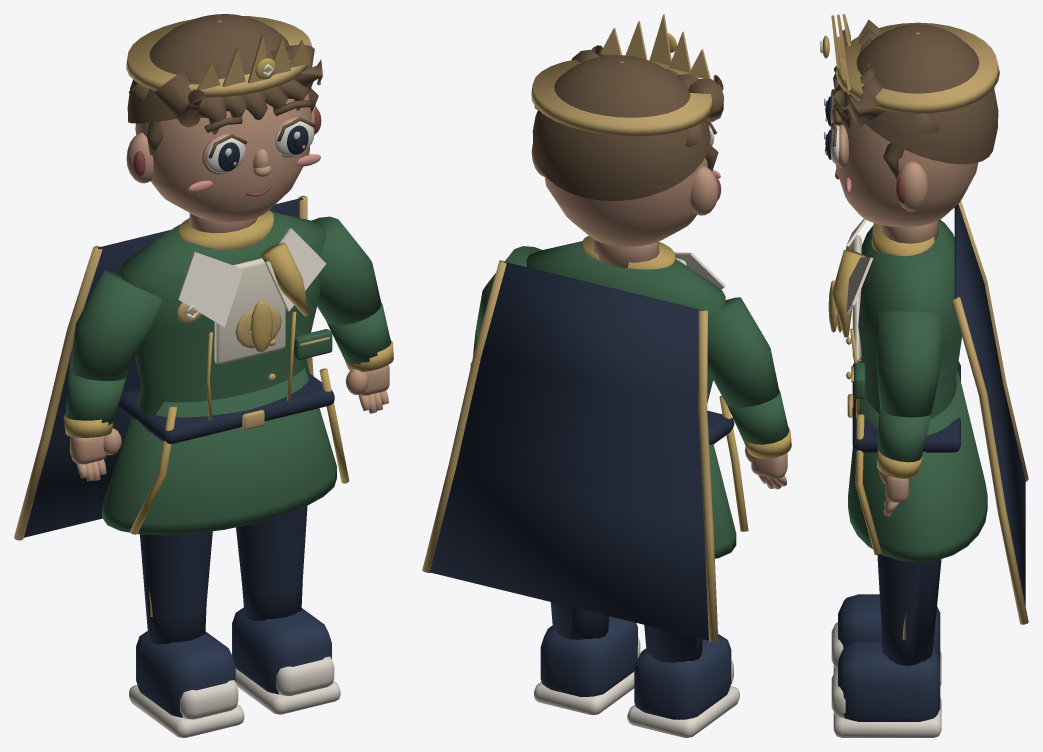
Rendered from npc_region_boss.glb.
3 views of the same model, side by side, from view 1: azimuth 30°, elevation 25°; view 2: azimuth 150°, elevation 25°; view 3: azimuth 270°, elevation 25° (orthographic). The views are drawn at different scales.
Visible parts, largest first — view 1: figure.043; view 2: figure.043; view 3: figure.043.
Part boxes in pixels (left/top/right/bottom): figure.043: left=14, top=14, right=393, bottom=737; figure.043: left=422, top=14, right=791, bottom=737; figure.043: left=820, top=14, right=1028, bottom=737.
Bounding box in the file's own units: 0.9065 × 1.84 × 0.5069.
